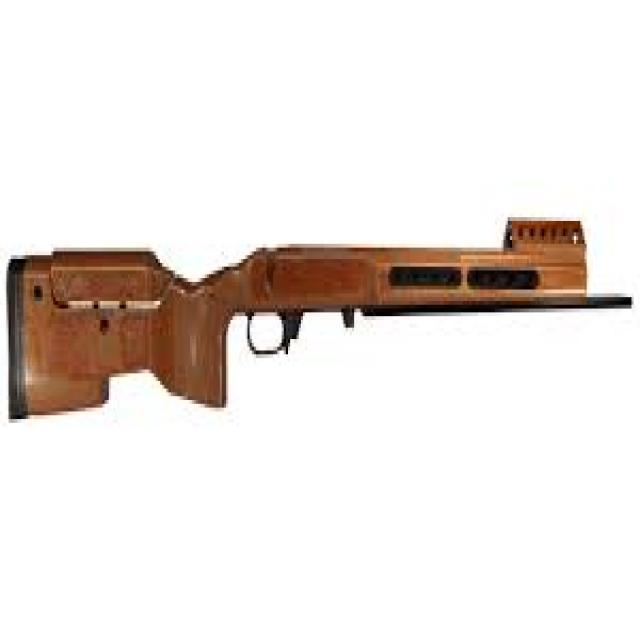gun: (0, 172, 640, 454)
